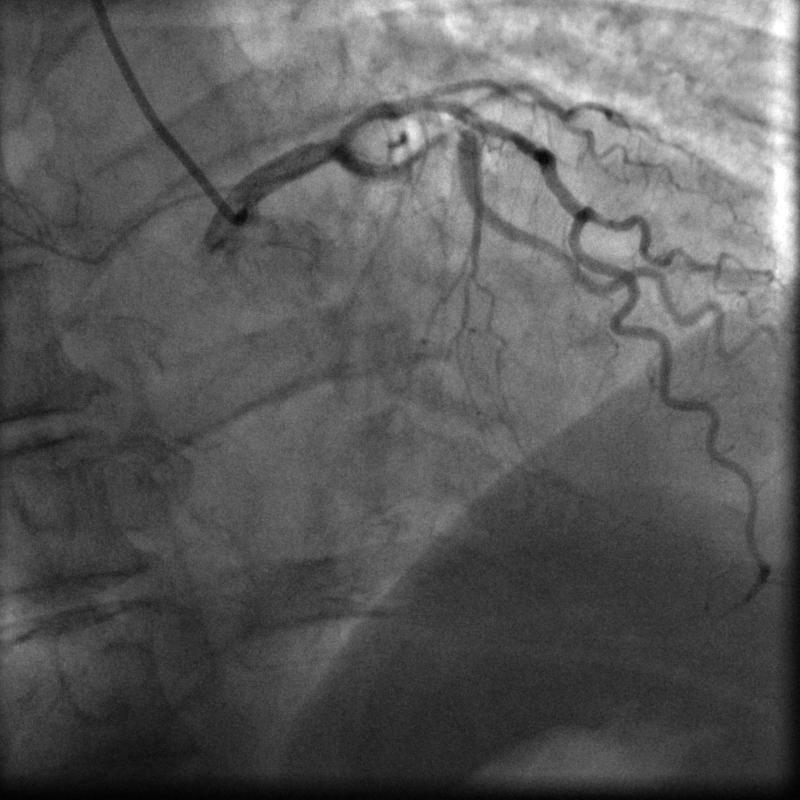Stenosis: (419, 124, 483, 150)
